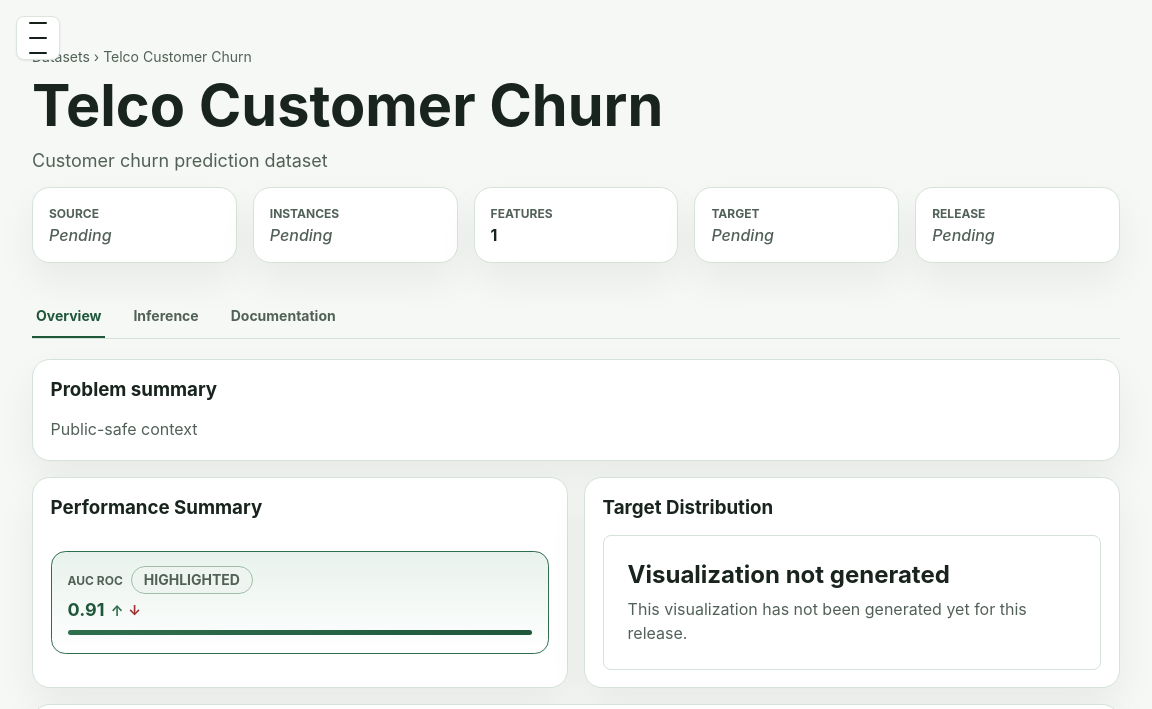
PublicShell initial navigation route isolation (Project Spec S0137) › still opens and closes the rail on /dataset/:slug after the explicit collapsed initialization
The image size is (1152, 709).
Check: the heading "Telco Customer Churn" is shown, box [32,77,663,135]
What coordinates should you click on to do the following:
click the button named "Show navigation"
I would click on:
 (38, 38)
Its box is [16,16,60,60].
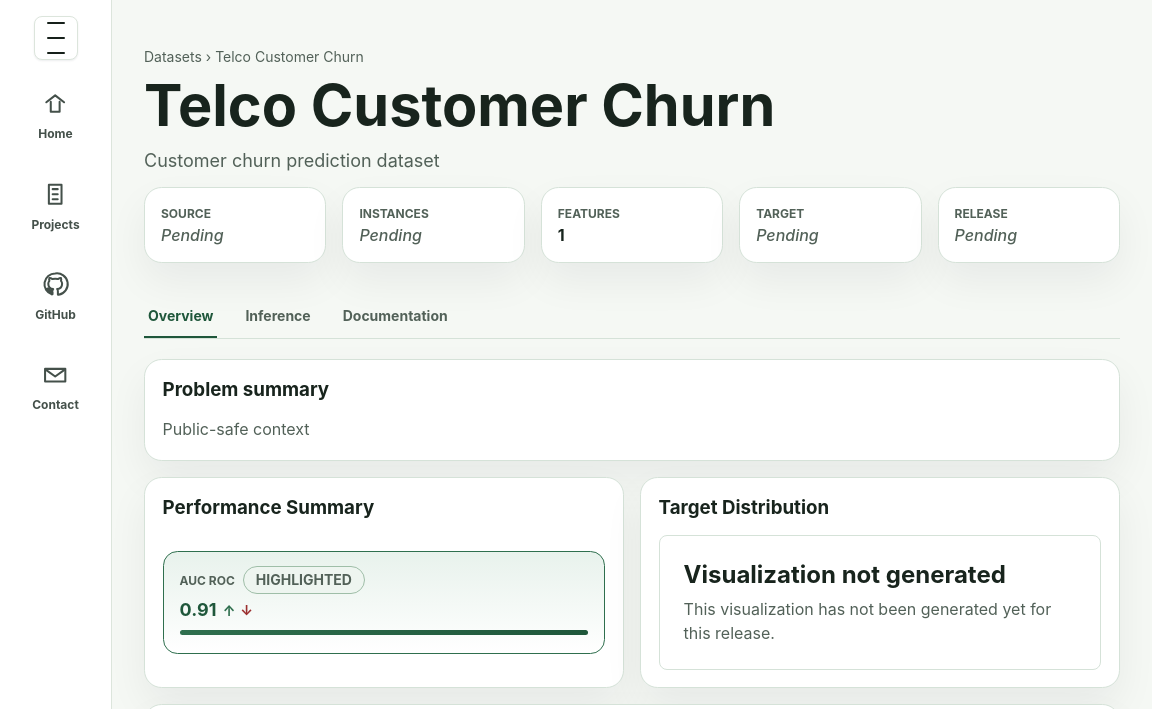
Check: the button named "Hide navigation" is expanded
What coordinates should you click on to do the following:
click the button named "Hide navigation"
I would click on:
 (56, 38)
Its box is [34,16,78,60].
(page scrolled)
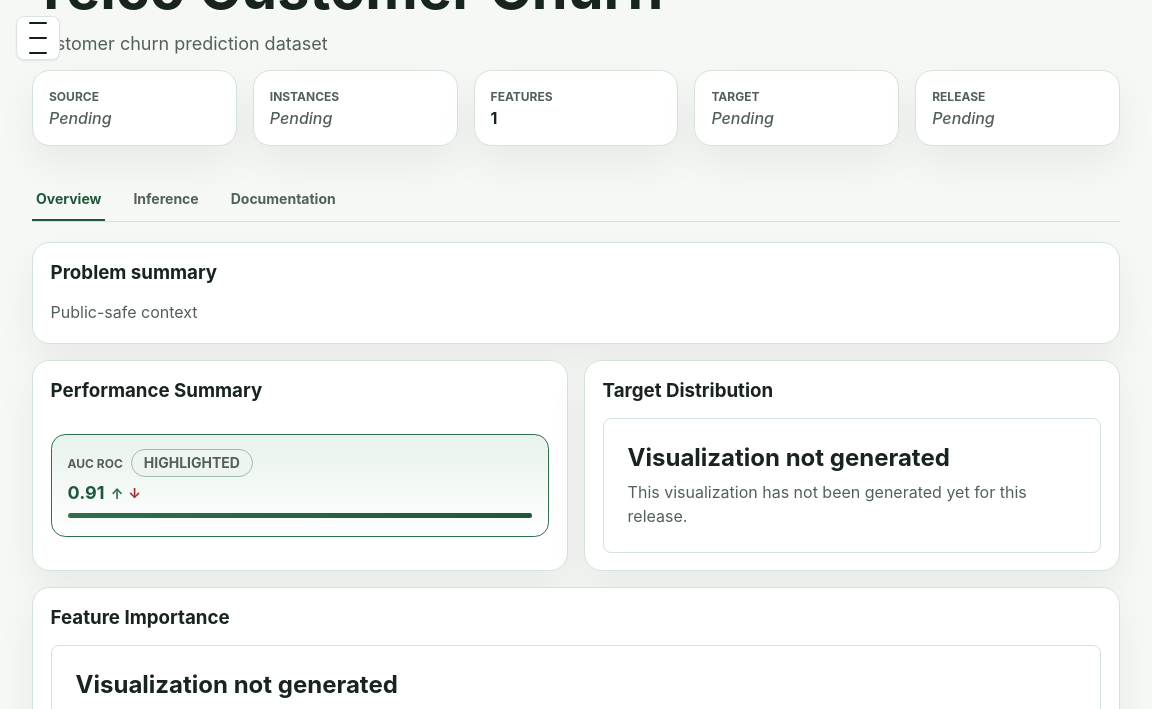
Check: the button named "Show navigation" is collapsed, box [16,16,60,60]
